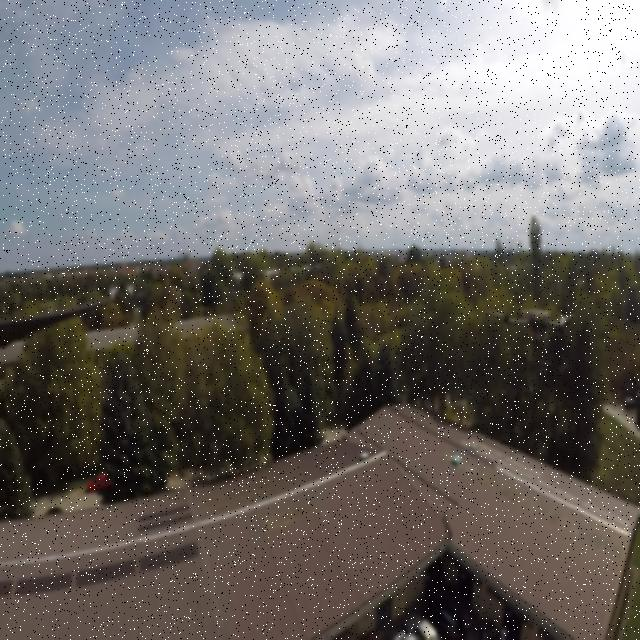UAV: (484, 307, 574, 376)
